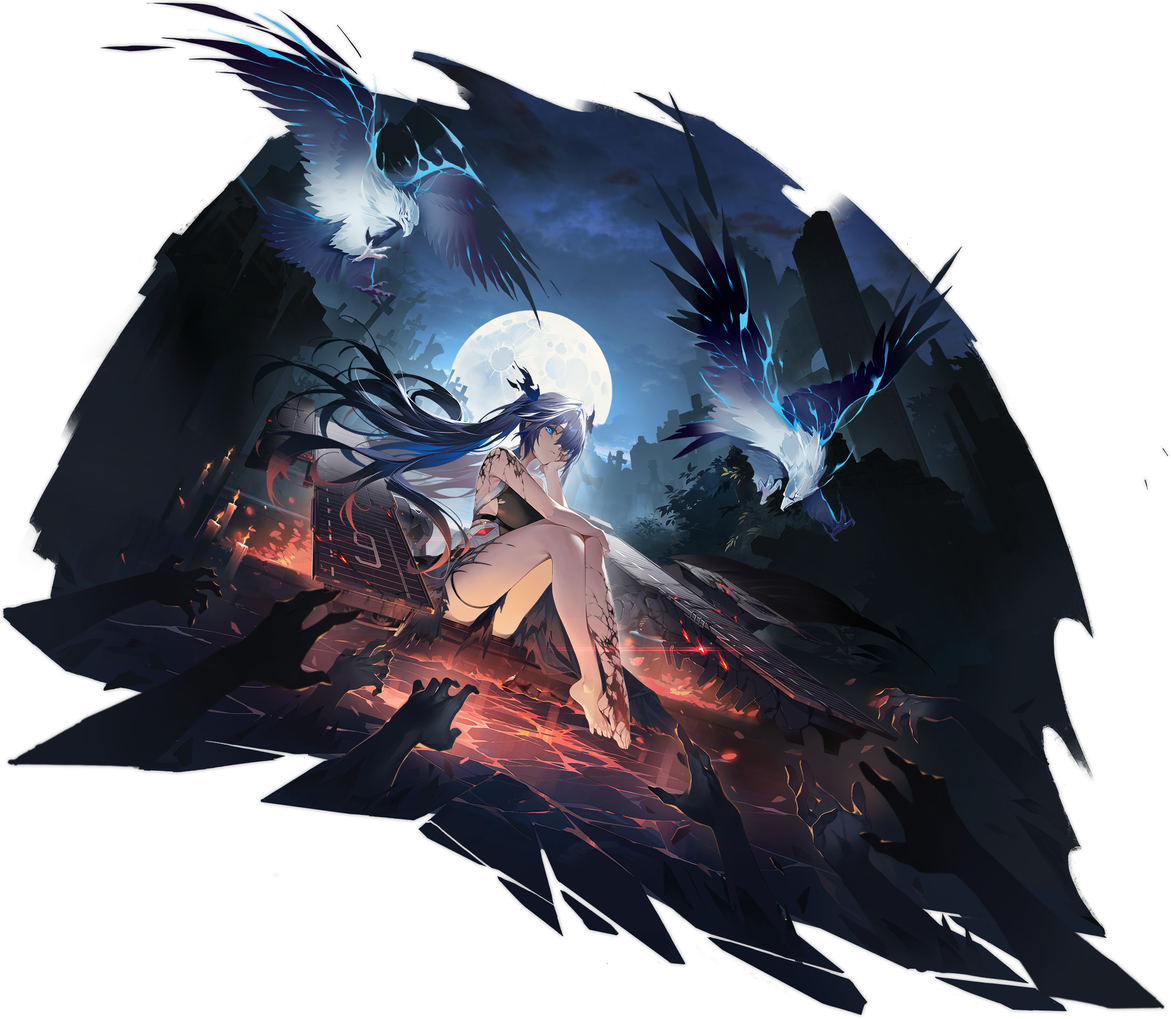person: (266, 311, 692, 840)
